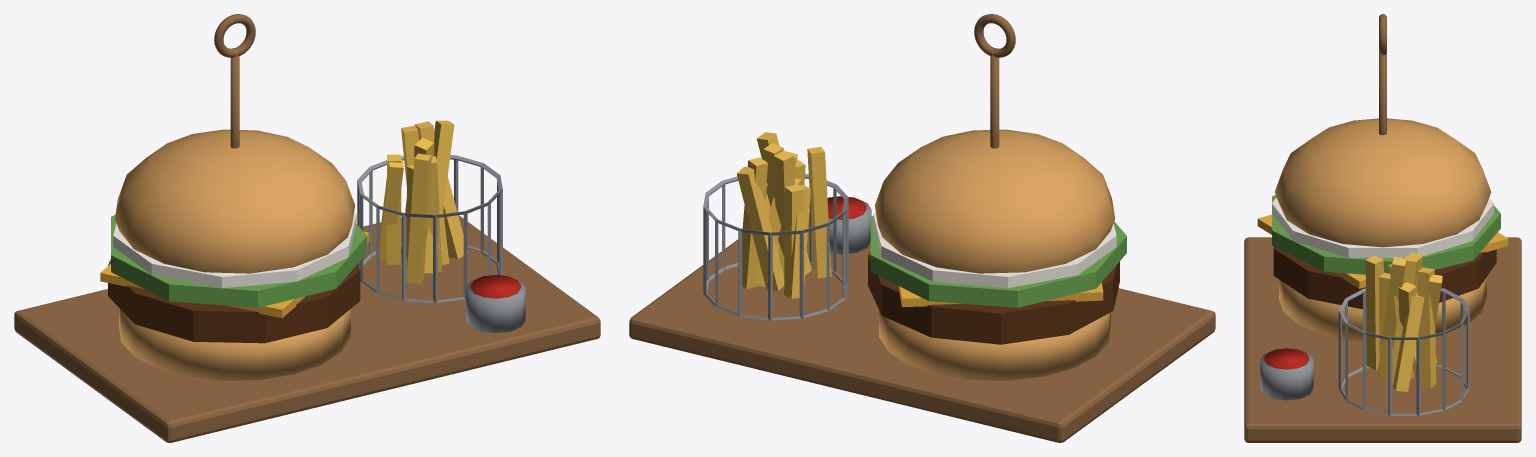
Rendered from meal.glb.
The picture shows the model from 3 angles, left to right: view 1: azimuth 30°, elevation 25°; view 2: azimuth 150°, elevation 25°; view 3: azimuth 270°, elevation 25°; orthographic projection. The views are drawn at different scales.
Visible parts, largest first — view 1: board, bun_top, patty, bun_bottom, lettuce, fry_basket, egg, fry4, ramekin, fry12, fry3, toothpick_knot (+8 smaller); view 2: board, bun_top, bun_bottom, patty, lettuce, fry_basket, egg, fry11, fry4, fry3, fry7, ramekin (+8 smaller); view 3: board, bun_top, patty, fry_basket, bun_bottom, lettuce, egg, ramekin, fry7, fry4, fry2, fry12 (+8 smaller).
Boxes of the visible parts, x1,y1,x2,y2 form: board: (14, 215, 600, 442); bun_top: (115, 129, 354, 273); patty: (108, 259, 360, 343); bun_bottom: (119, 308, 350, 380); lettuce: (111, 215, 366, 307); fry_basket: (357, 155, 502, 303); egg: (113, 212, 356, 288); fry4: (406, 153, 431, 284); ramekin: (466, 280, 525, 333); fry12: (424, 120, 454, 273); fry3: (379, 160, 403, 262); toothpick_knot: (214, 14, 255, 57); board: (629, 213, 1215, 442); bun_top: (875, 129, 1114, 273); bun_bottom: (879, 310, 1110, 380); patty: (868, 252, 1119, 344); lettuce: (870, 216, 1126, 307); fry_basket: (703, 174, 848, 320); egg: (873, 212, 1116, 288); fry11: (736, 166, 784, 290); fry4: (807, 147, 831, 278); fry3: (784, 184, 810, 298); fry7: (738, 157, 767, 289); ramekin: (828, 201, 871, 254); board: (1244, 237, 1521, 442); bun_top: (1275, 118, 1490, 247); patty: (1273, 246, 1496, 309); fry_basket: (1338, 288, 1469, 415); bun_bottom: (1279, 277, 1486, 341); lettuce: (1272, 195, 1500, 274); egg: (1272, 197, 1493, 257); ramekin: (1260, 353, 1313, 400); fry7: (1417, 267, 1436, 388); fry4: (1365, 255, 1383, 369); fry2: (1393, 293, 1424, 391); fry12: (1377, 256, 1406, 373).
Bounding box in the file's own units: 0.42 × 0.3125 × 0.26.
